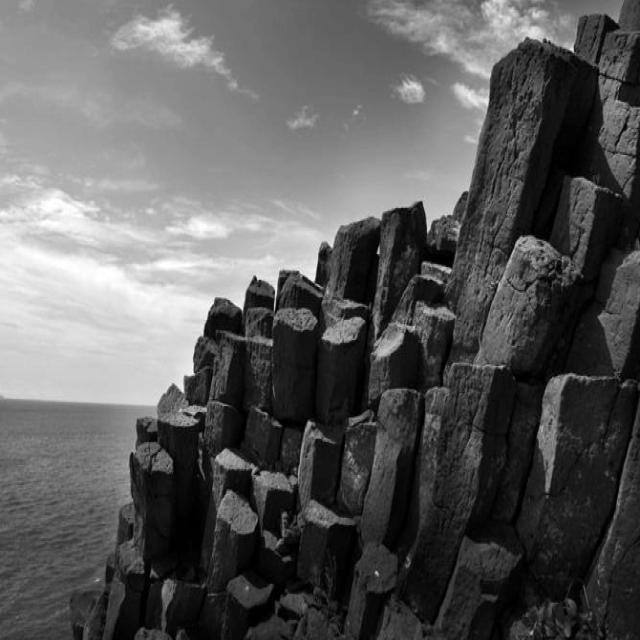reef: (52, 251, 327, 619)
